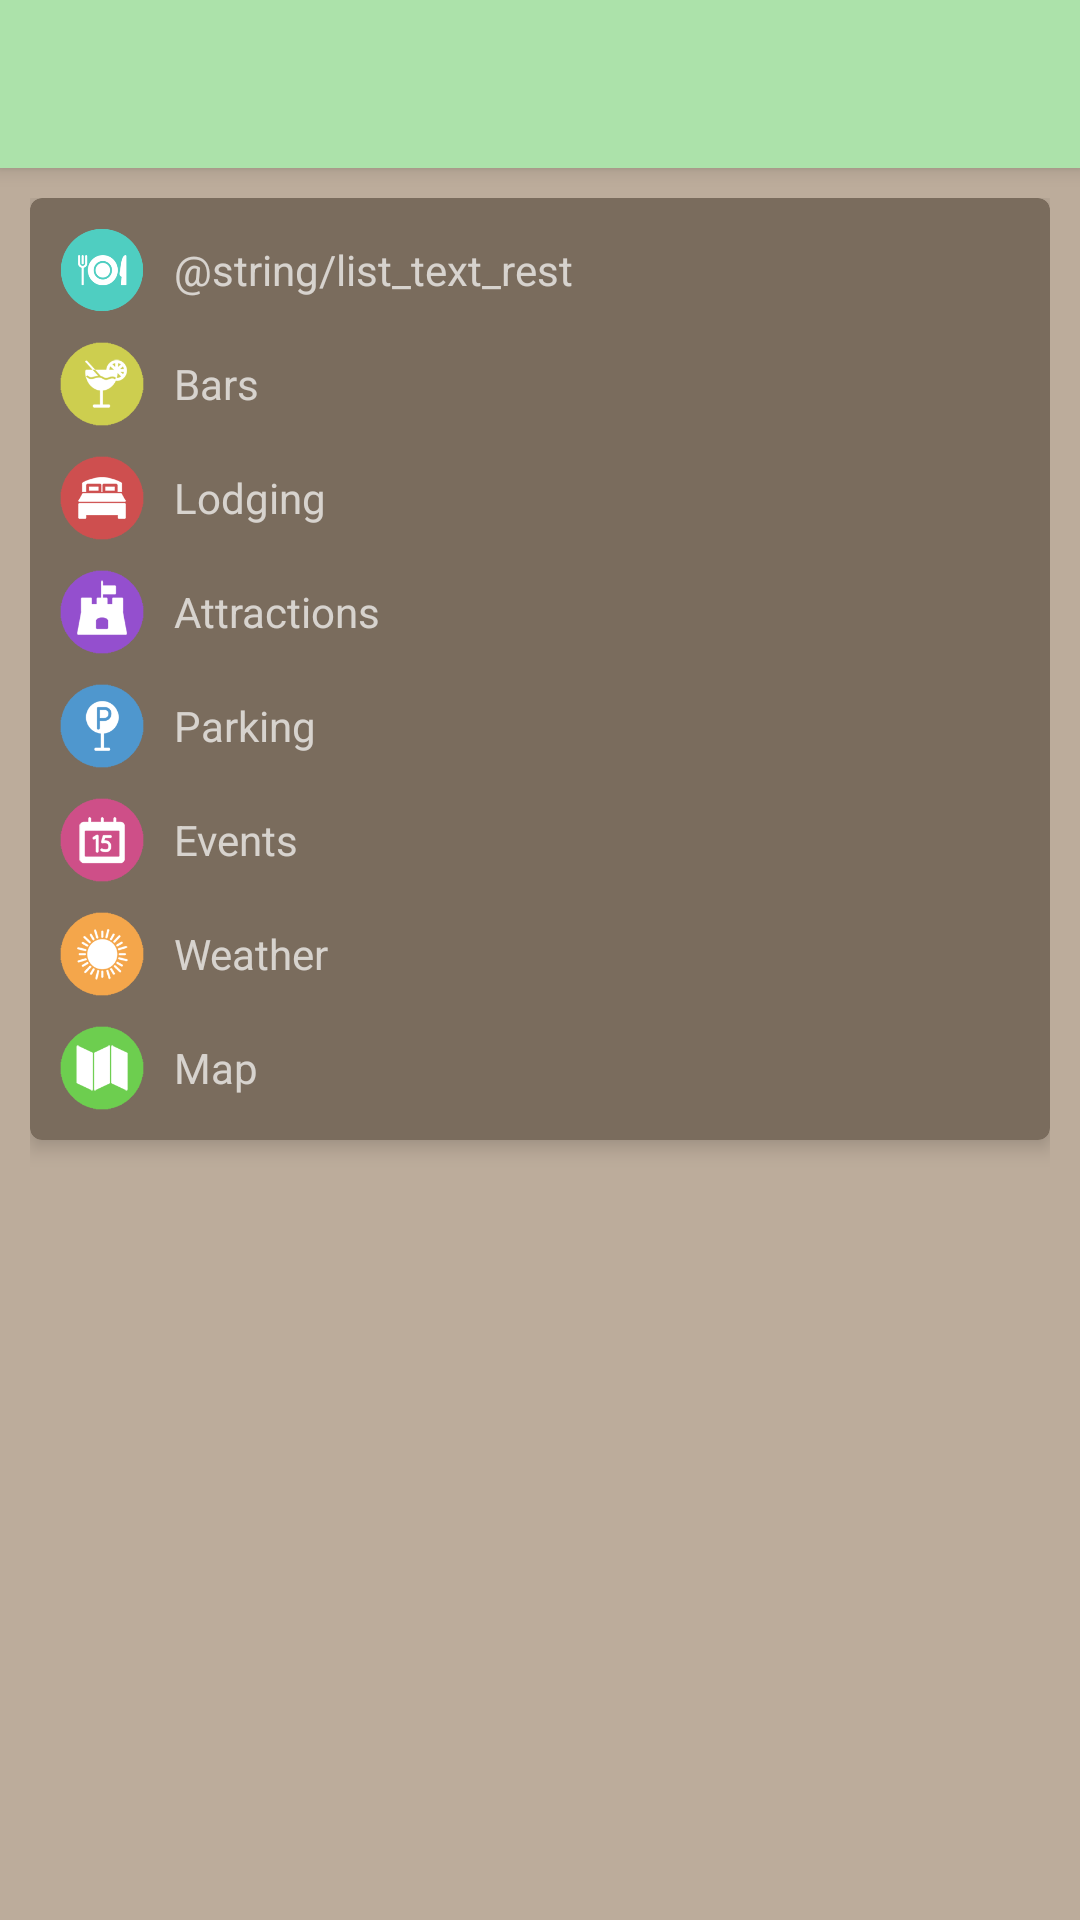

Icons on this 1080*1920 Android screen, each with the point to tap as [x,y]:
item map: [102,1068]
item restaurants: [102,270]
